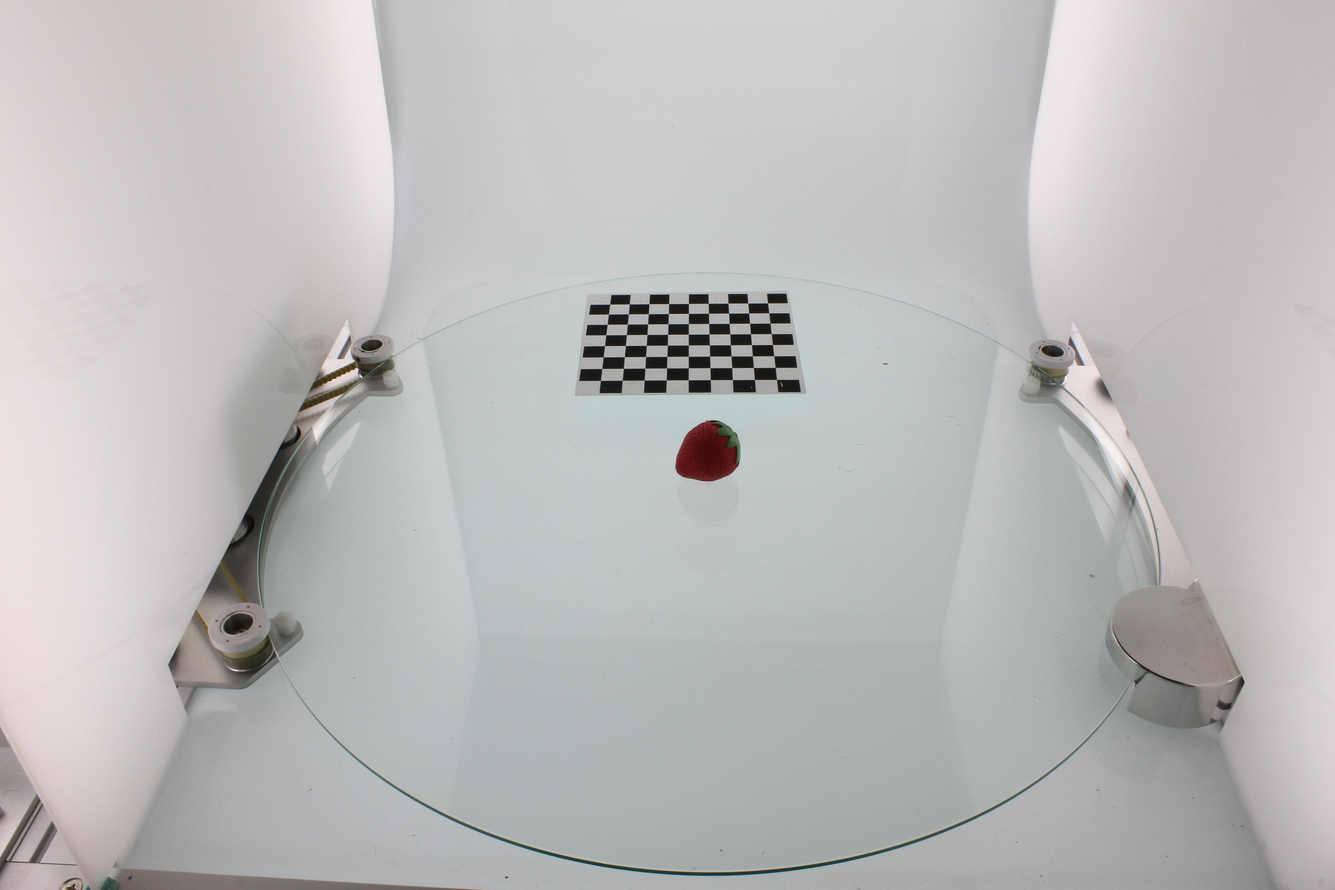strawberry: (676, 421, 740, 481)
